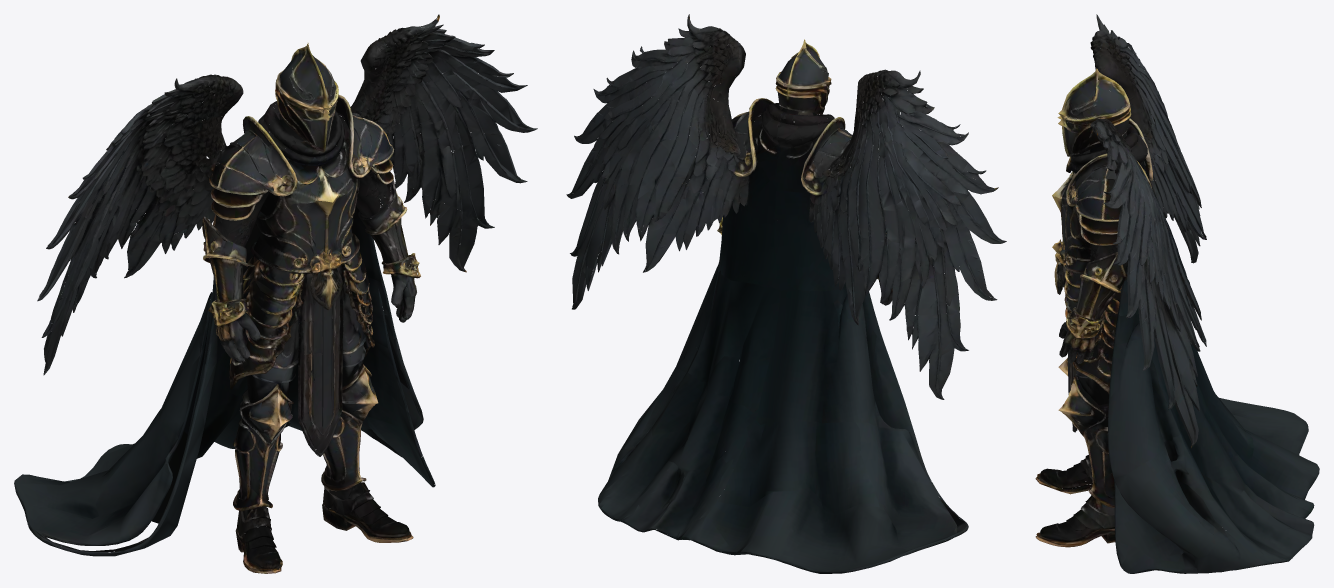
3 views of the same model, side by side, from view 1: azimuth 30°, elevation 25°; view 2: azimuth 150°, elevation 25°; view 3: azimuth 270°, elevation 25° (orthographic). The views are drawn at different scales.
Visible parts, largest first — view 1: tmp_cjtqadq.obj; view 2: tmp_cjtqadq.obj; view 3: tmp_cjtqadq.obj.
Part boxes in pixels (left/top/right/bottom): tmp_cjtqadq.obj: left=14, top=14, right=537, bottom=573; tmp_cjtqadq.obj: left=566, top=14, right=1006, bottom=573; tmp_cjtqadq.obj: left=1035, top=14, right=1319, bottom=573.
Size of the model in its own units: 1.49 by 1.45 by 0.8298.
1 material, 1 textured.
